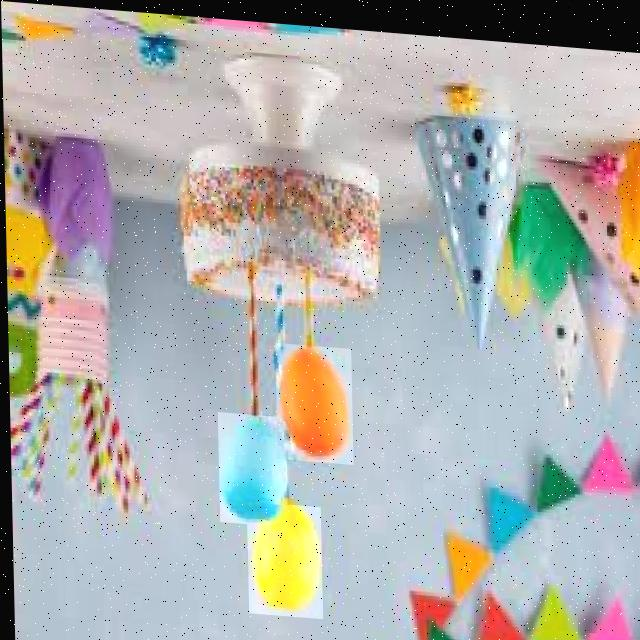balloon: (273, 337, 351, 458), (243, 496, 319, 613), (215, 407, 285, 522)
